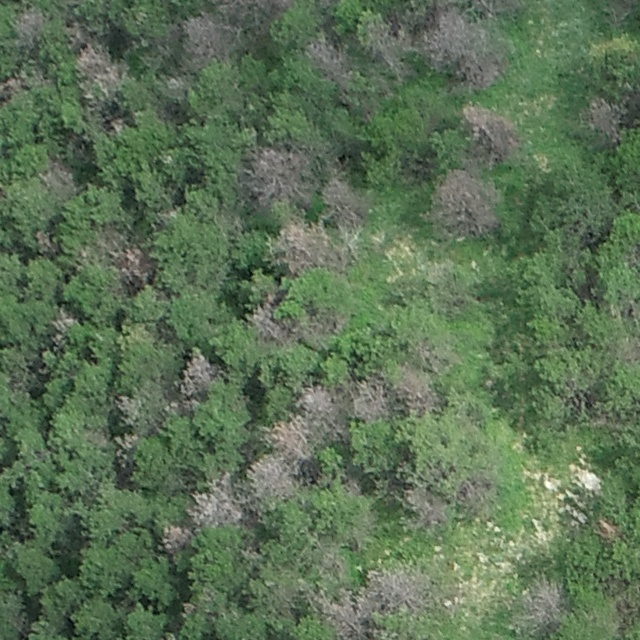unhealthy: (420, 4, 500, 86), (432, 169, 496, 239), (243, 144, 313, 206), (460, 102, 515, 160), (365, 565, 431, 610), (362, 20, 410, 81), (273, 218, 326, 273), (189, 475, 242, 528), (311, 588, 364, 639), (179, 11, 229, 63), (72, 41, 124, 90), (306, 37, 349, 94), (105, 236, 151, 287), (318, 178, 366, 226), (522, 577, 566, 627), (394, 367, 441, 412), (249, 454, 294, 498), (264, 416, 311, 456), (350, 376, 388, 423), (247, 294, 284, 342), (402, 487, 445, 528), (584, 94, 620, 142), (180, 350, 219, 394), (303, 309, 345, 347), (296, 383, 339, 420), (39, 156, 76, 195), (415, 338, 456, 372), (211, 2, 293, 18), (457, 475, 493, 509), (12, 5, 47, 39), (158, 522, 193, 553), (50, 305, 76, 338), (0, 74, 26, 102), (117, 392, 141, 422), (31, 229, 57, 255), (115, 431, 139, 451)
